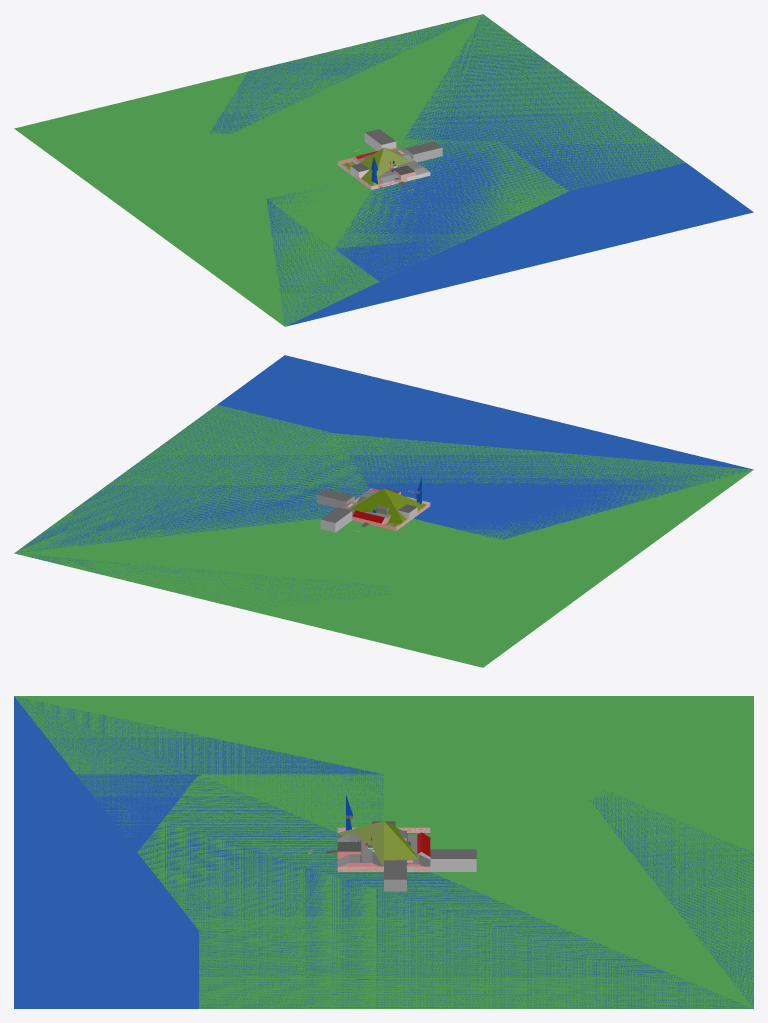
3 views of the same model, one above another, from view 1: azimuth 30°, elevation 25°; view 2: azimuth 150°, elevation 25°; view 3: azimuth 270°, elevation 25° (orthographic). The views are drawn at different scales.
Visible parts, largest first — view 1: ko_058_lod0, ko_000_lod0, ko_081_lod0, ko_059_lod0, ko_062_lod0_s1v0, ko_001_lod0, ko_004_lod0; view 2: ko_000_lod0, ko_058_lod0, ko_059_lod0, ko_081_lod0, ko_062_lod0_s1v0, ko_004_lod0, ko_001_lod0; view 3: ko_000_lod0, ko_058_lod0, ko_081_lod0, ko_059_lod0, ko_062_lod0_s1v0, ko_001_lod0, ko_004_lod0, ko_093_lod0_s1v0, ko_029_lod0.
Boxes of the visible parts, <box> form: ko_058_lod0: <box>14,14,568,326</box>; ko_000_lod0: <box>200,14,685,248</box>; ko_081_lod0: <box>210,14,684,281</box>; ko_059_lod0: <box>266,163,753,326</box>; ko_062_lod0_s1v0: <box>364,129,442,181</box>; ko_001_lod0: <box>18,124,227,134</box>; ko_004_lod0: <box>349,147,410,185</box>; ko_000_lod0: <box>14,405,526,589</box>; ko_058_lod0: <box>14,433,753,667</box>; ko_059_lod0: <box>217,355,753,539</box>; ko_081_lod0: <box>17,405,547,607</box>; ko_062_lod0_s1v0: <box>317,488,400,532</box>; ko_004_lod0: <box>350,488,426,524</box>; ko_001_lod0: <box>387,586,481,666</box>; ko_000_lod0: <box>137,774,753,1008</box>; ko_058_lod0: <box>14,696,753,1008</box>; ko_081_lod0: <box>76,774,753,1008</box>; ko_059_lod0: <box>14,696,383,1008</box>; ko_062_lod0_s1v0: <box>337,830,476,891</box>; ko_001_lod0: <box>590,696,753,799</box>; ko_004_lod0: <box>338,821,418,866</box>; ko_093_lod0_s1v0: <box>337,833,430,866</box>; ko_029_lod0: <box>337,815,430,871</box>.
Size of what is drawn, in the model's own units: 4096 by 256 by 4096.
